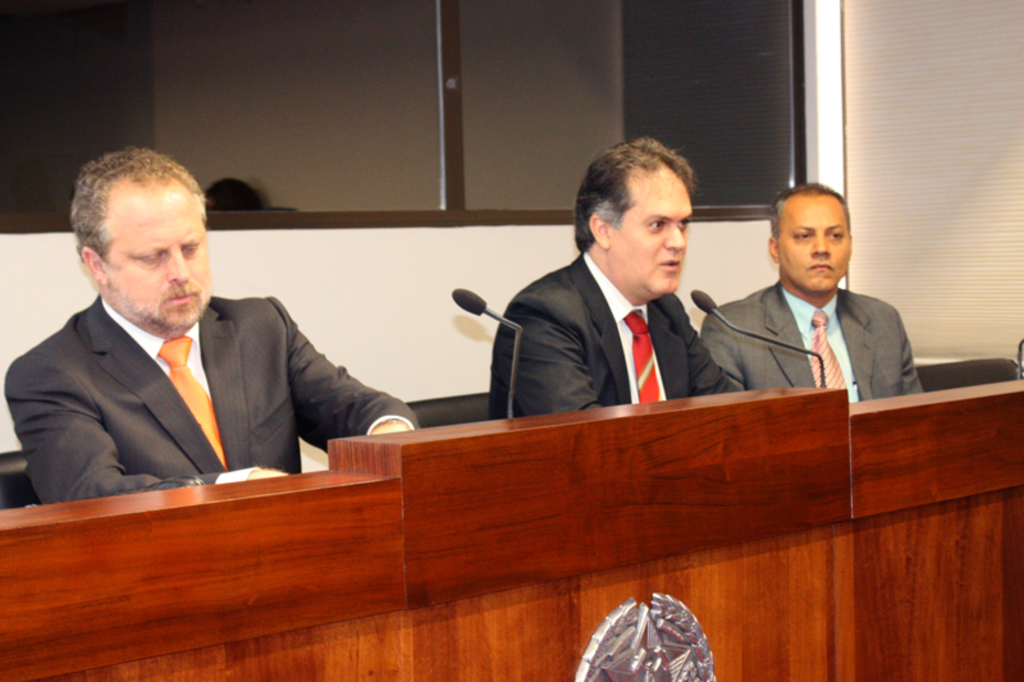Person: (3, 144, 420, 504), (487, 134, 744, 421), (699, 181, 925, 403)
